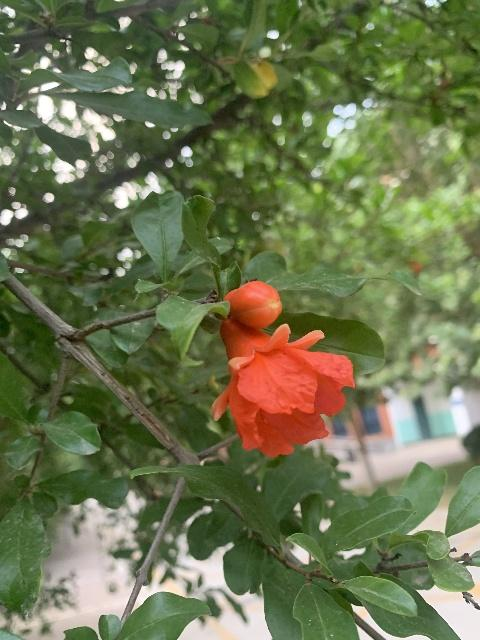bud: (222, 280, 282, 328)
flower: (211, 319, 354, 457)
